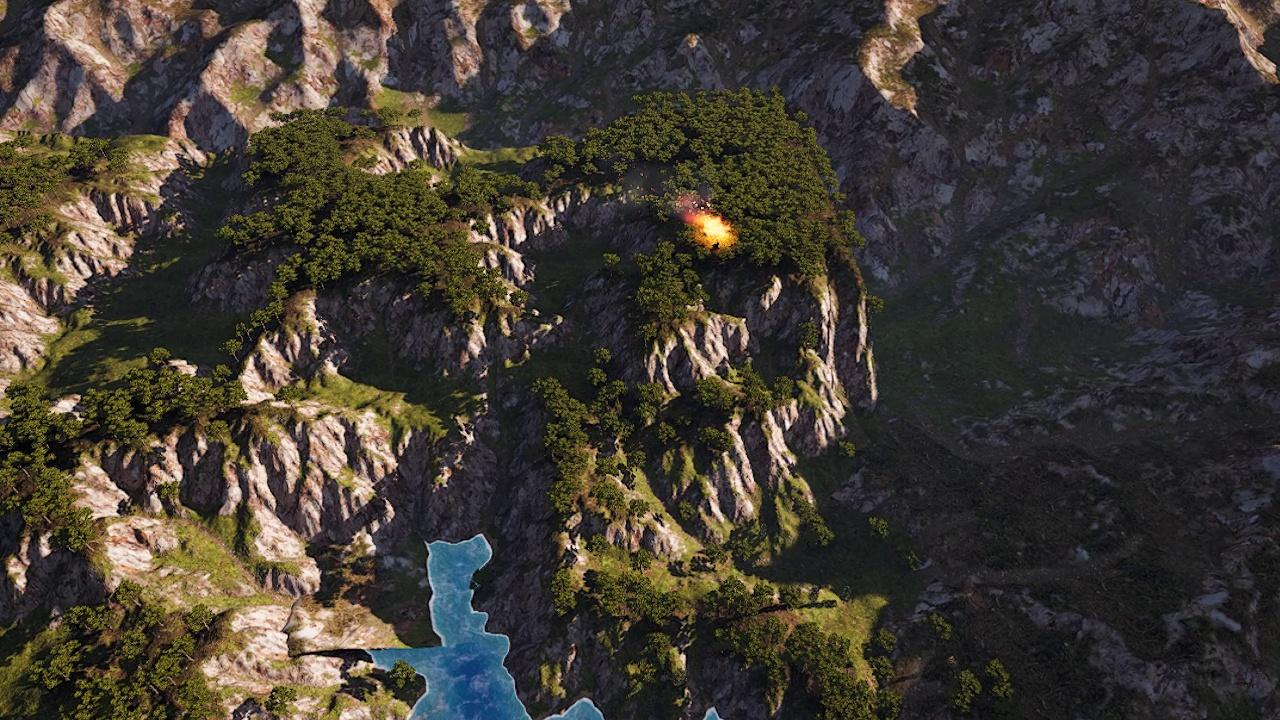fire: (690, 213, 734, 248)
